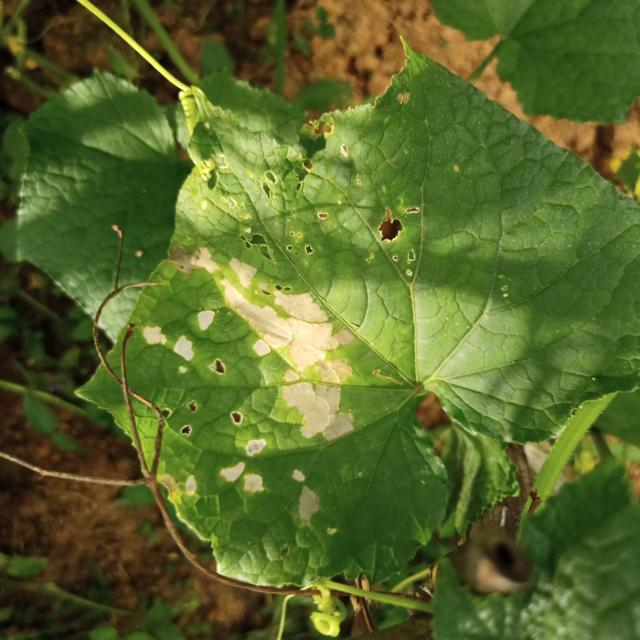disease_cucumber: (137, 242, 365, 534)
